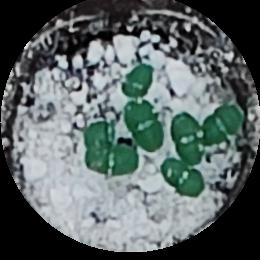Basil: (123, 102, 166, 154), (79, 143, 144, 175), (201, 104, 247, 147), (172, 112, 209, 164), (162, 159, 204, 195), (120, 63, 153, 96)
